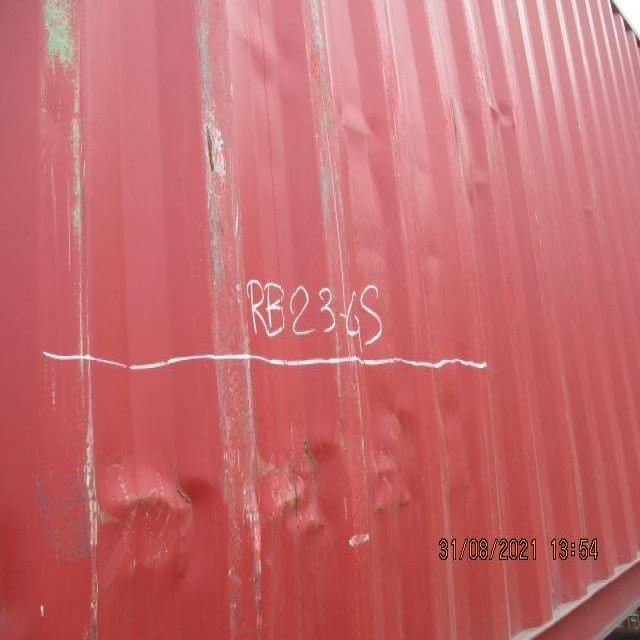Dent: (32, 375, 493, 608)
Minor-Dent: (310, 80, 541, 215)
